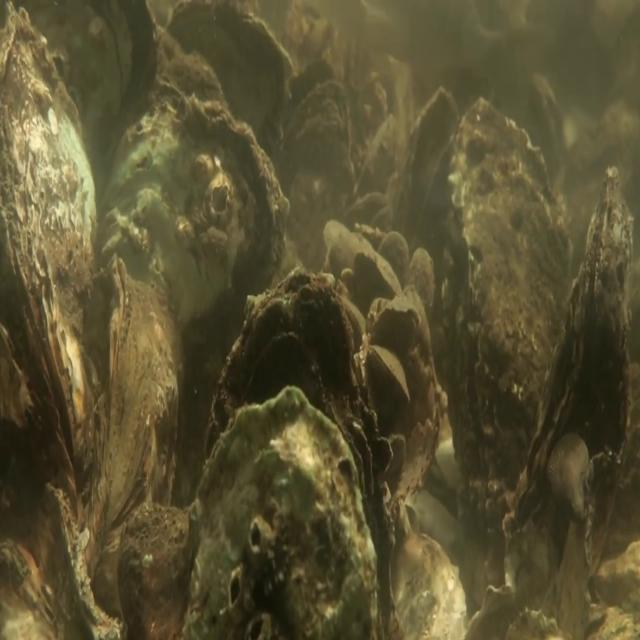Oyster-Closed: (444, 92, 576, 525), (177, 380, 378, 635), (0, 7, 102, 493), (104, 90, 285, 319), (525, 164, 635, 493), (197, 255, 372, 443), (87, 256, 186, 565), (349, 242, 405, 310), (366, 339, 415, 409), (369, 296, 422, 353)
Oyster-Indeterminate: (4, 0, 159, 170), (163, 5, 298, 124)
Oyster-Open: (285, 53, 354, 176)
